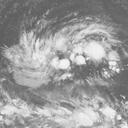cyclone: (83, 40, 106, 63)
